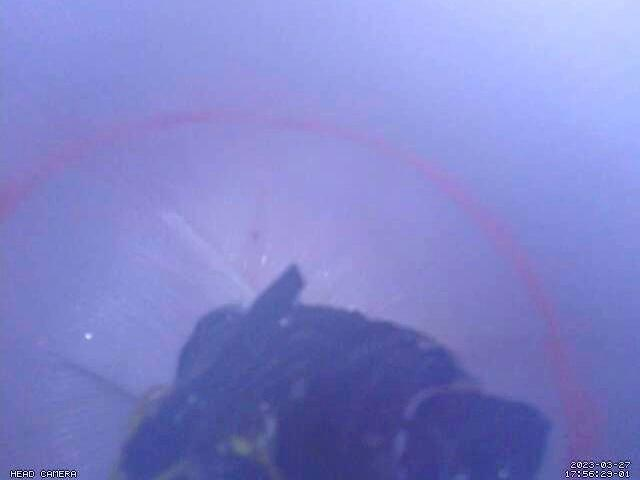head: (0, 108, 592, 479)
